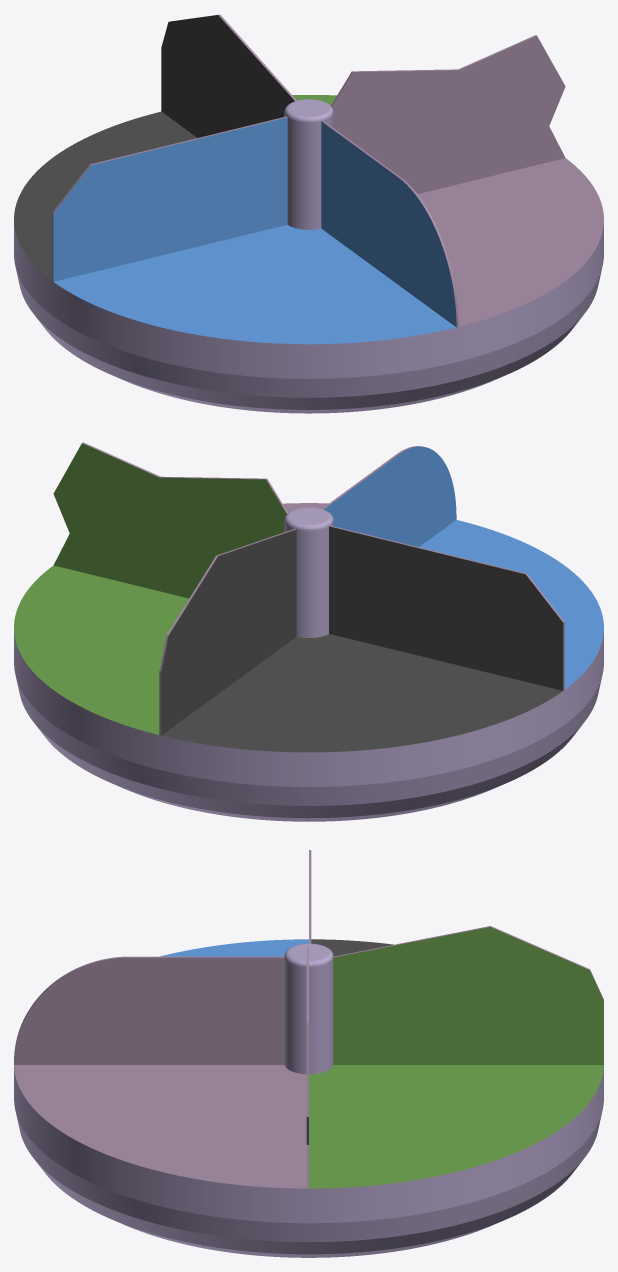
The picture shows the model from 3 angles, top to bottom: view 1: azimuth 30°, elevation 25°; view 2: azimuth 150°, elevation 25°; view 3: azimuth 270°, elevation 25°; orthographic projection.
Parts seen in each view (by area): view 1: Cylinder, Cylinder.001; view 2: Cylinder, Cylinder.001; view 3: Cylinder, Cylinder.001.
Boxes of the visible parts, x1,y1,x2,y2 form: Cylinder: (14,95,603,413); Cylinder.001: (52,14,565,327); Cylinder: (14,503,603,821); Cylinder.001: (53,442,564,735); Cylinder: (14,939,603,1257); Cylinder.001: (14,850,603,1188).
Size of the model in its own units: 24 by 10.2 by 24.
